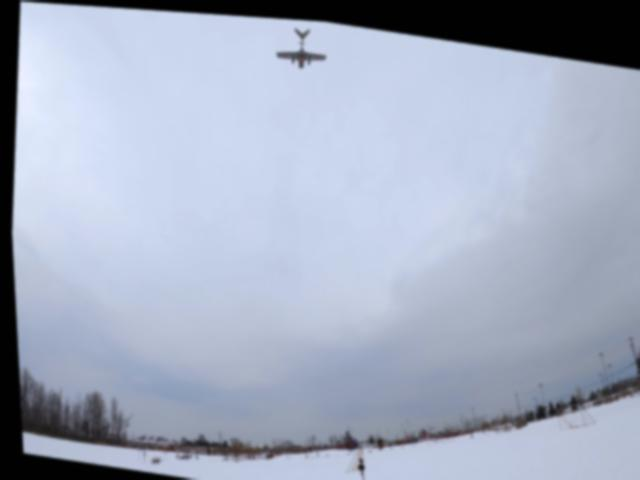plane: (274, 19, 327, 68)
